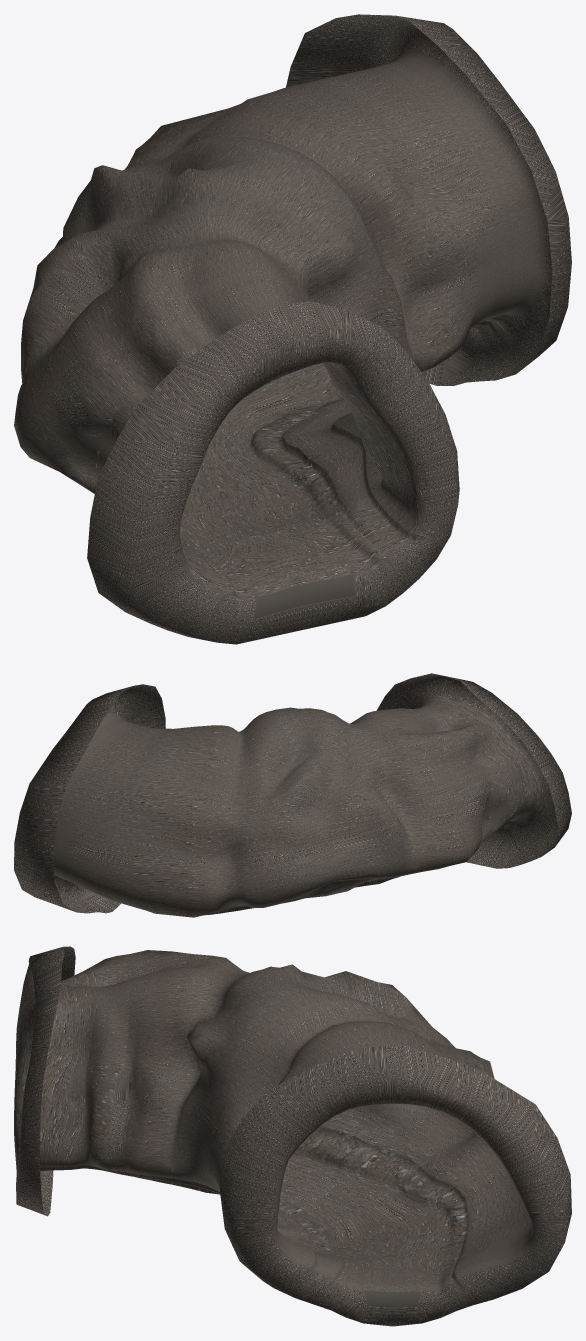
Rendered from cave_tunnel_turn_01.dae.
3 views of the same model, one above another, from view 1: azimuth 30°, elevation 25°; view 2: azimuth 150°, elevation 25°; view 3: azimuth 270°, elevation 25° (orthographic). The views are drawn at different scales.
Parts seen in each view (by area): view 1: tunnel_turn_01; view 2: tunnel_turn_01; view 3: tunnel_turn_01.
Part boxes in pixels (x1=…): tunnel_turn_01: x1=14, y1=14, x2=571, y2=644; tunnel_turn_01: x1=14, y1=673, x2=571, y2=917; tunnel_turn_01: x1=14, y1=946, x2=571, y2=1326.
Size of what is drawn, in the model's own units: 12.51 by 7.2 by 13.31.
